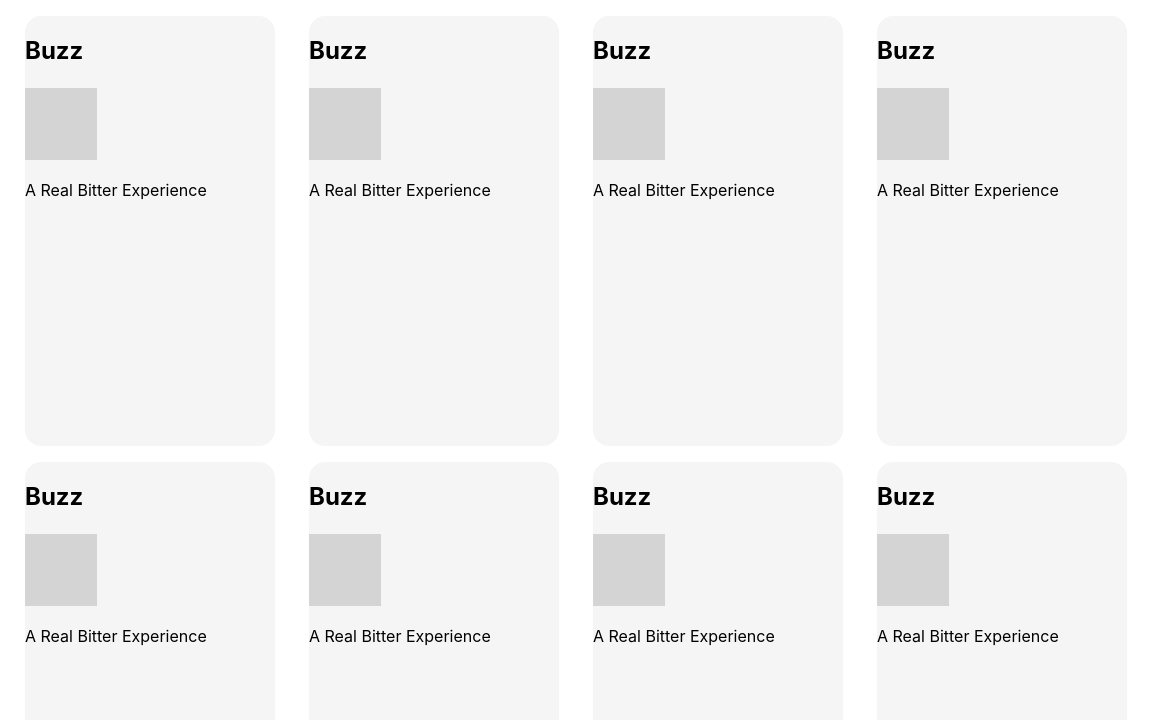
Test case: should respond to button inputs › should bring up a pop-out when a card is clicked
Click the 1st button. click: click(150, 231)
box: [25,16,275,446]
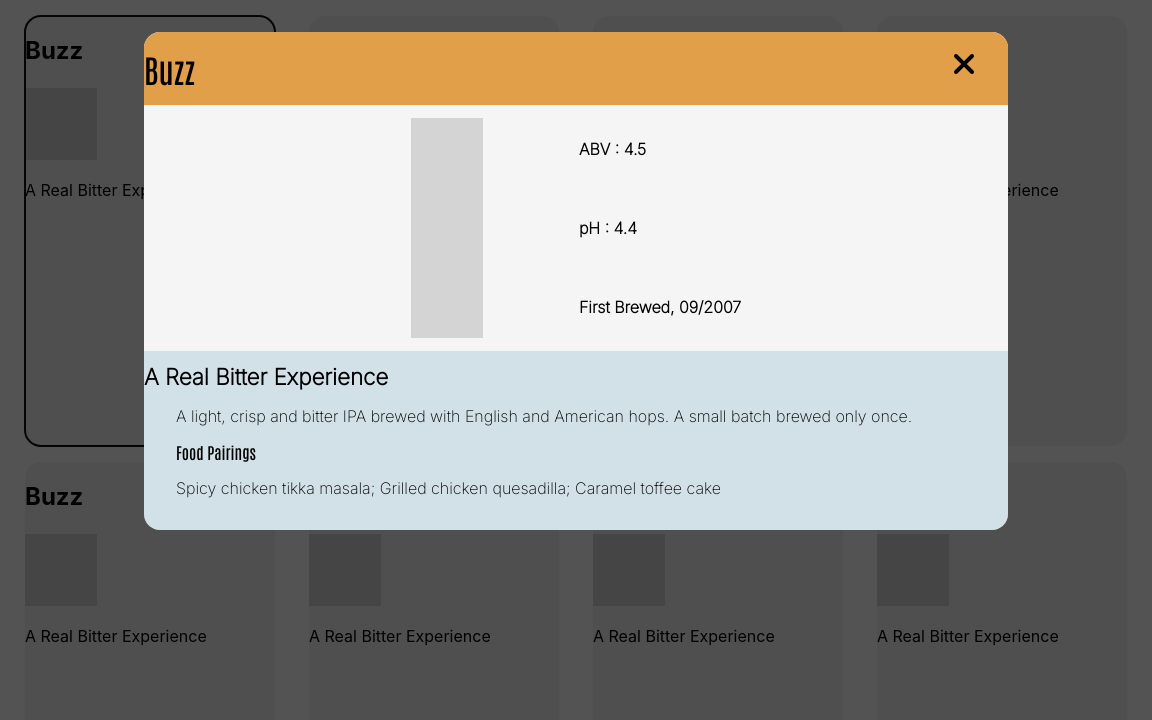
Expected: the text "A light, crisp and bitter IPA brewed with English and American hops. A small batch brewed only once." is shown, [176,406,912,426]
